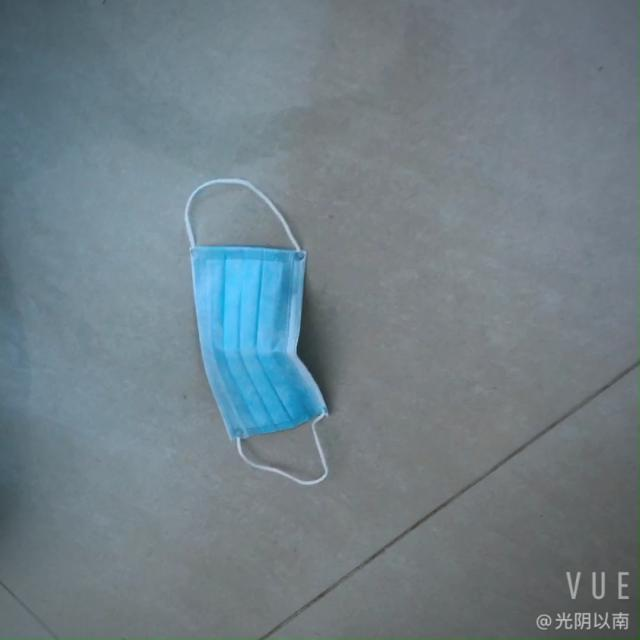face mask: (184, 180, 331, 490)
